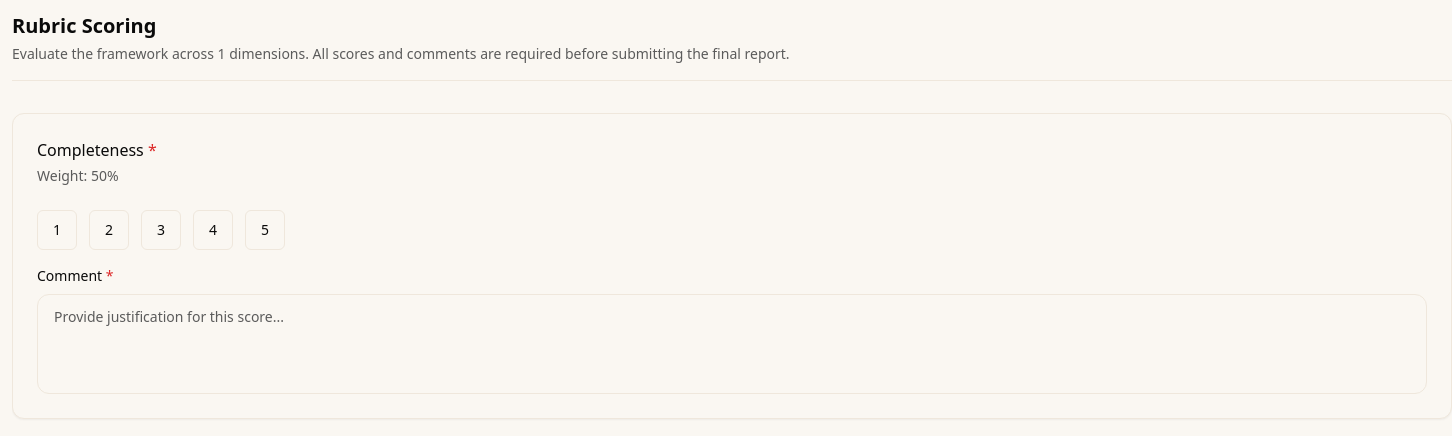
it: RubricPanel autosave › does not announce a rubric row that failed to save
Click the button "3" at (161, 230), box [141,210,181,250]
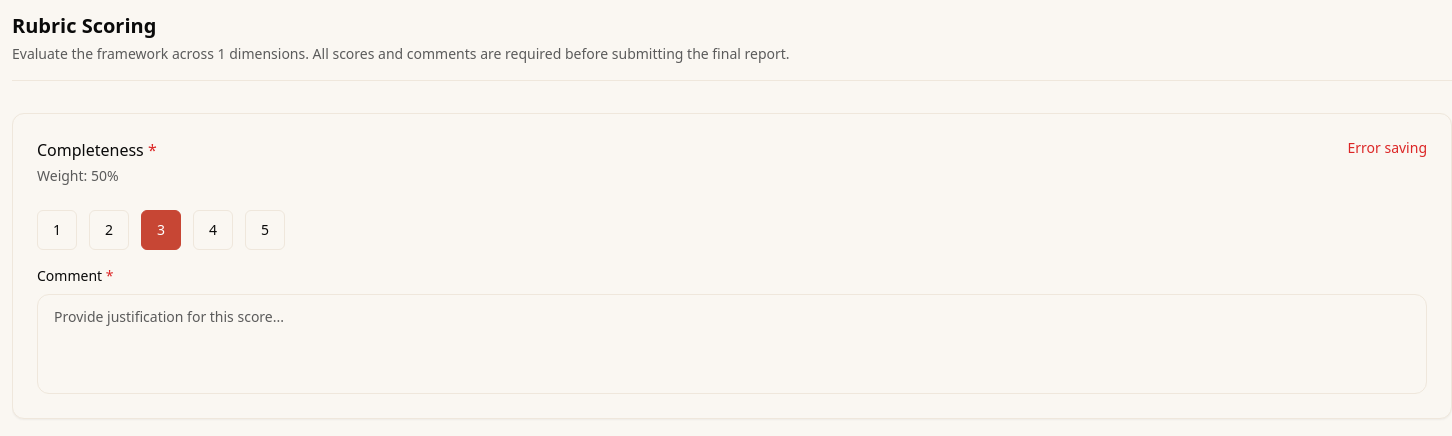
Expected: the text "Error saving" is shown, [1348,138,1427,158]
